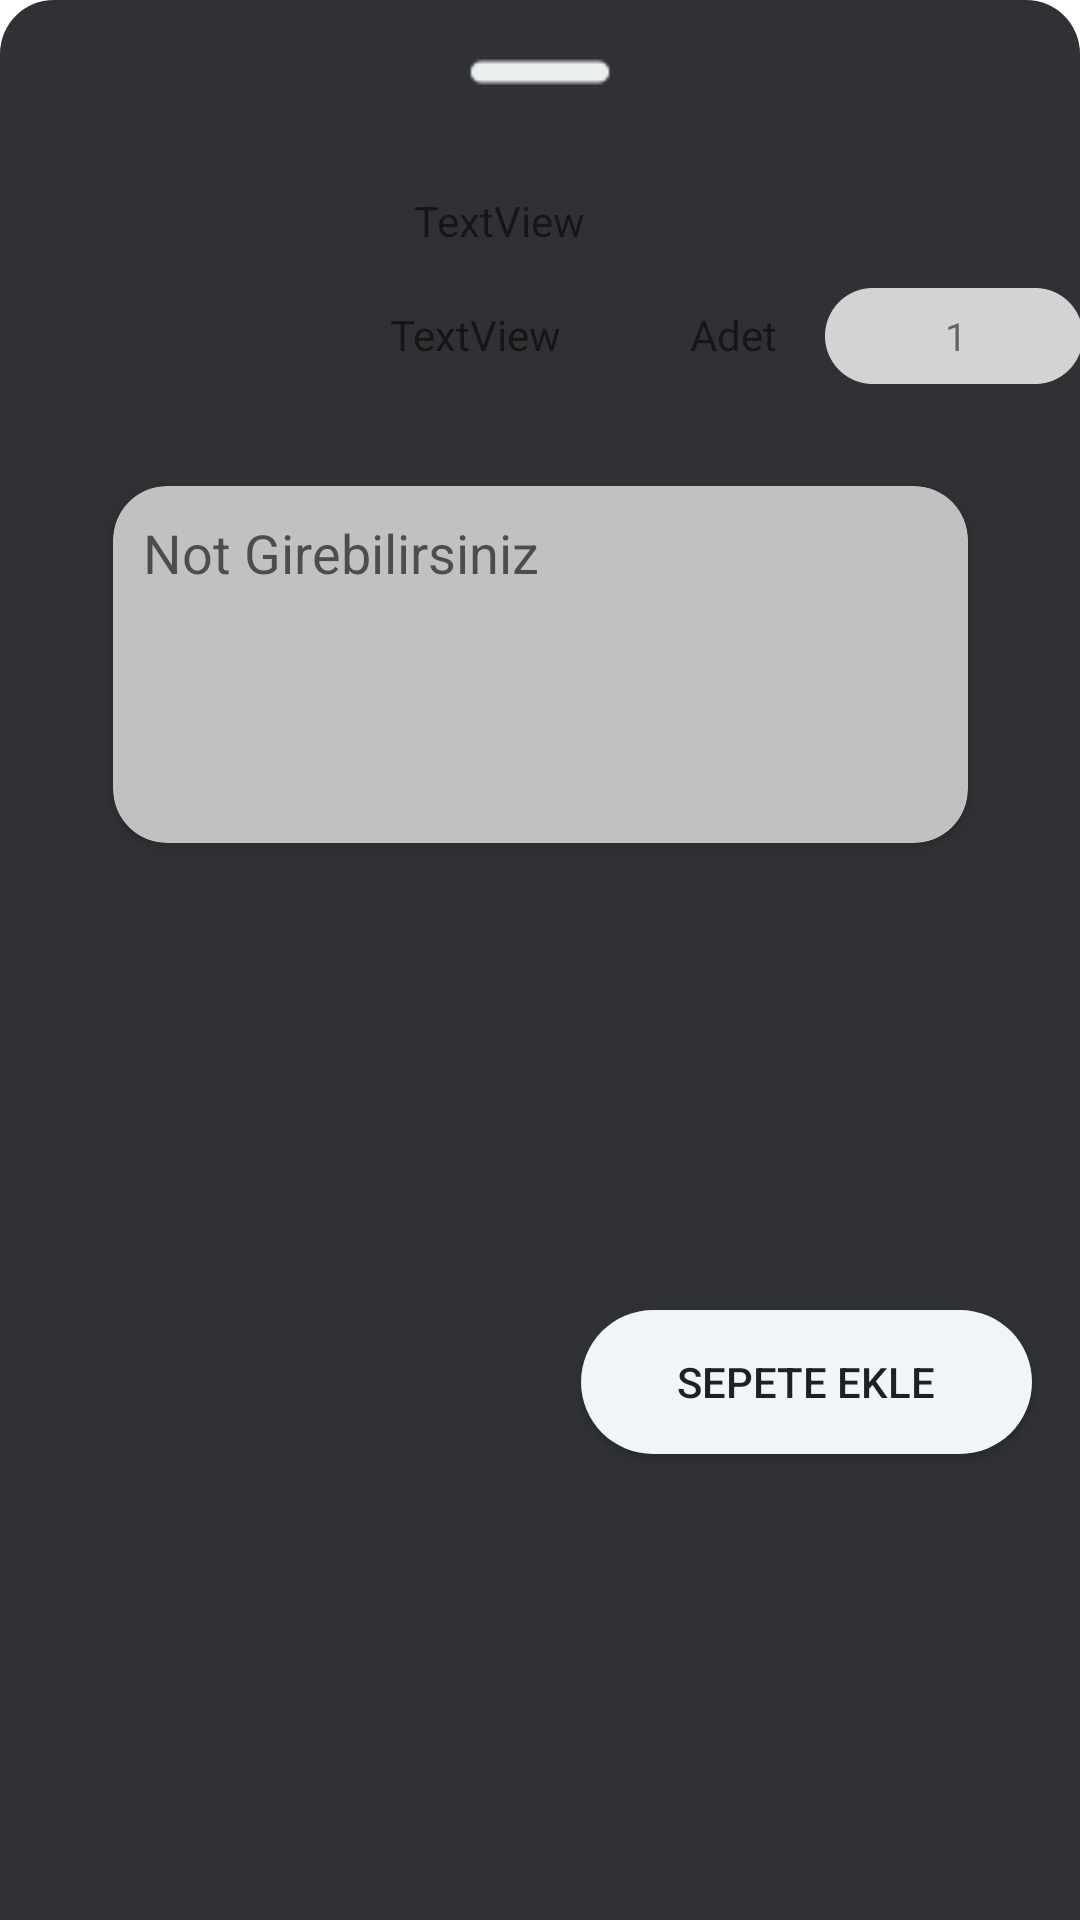

Icon click points for this 1080px x 1920px phone screenshot, format (x=x, y=y):
horizontal line: (x=540, y=72)
